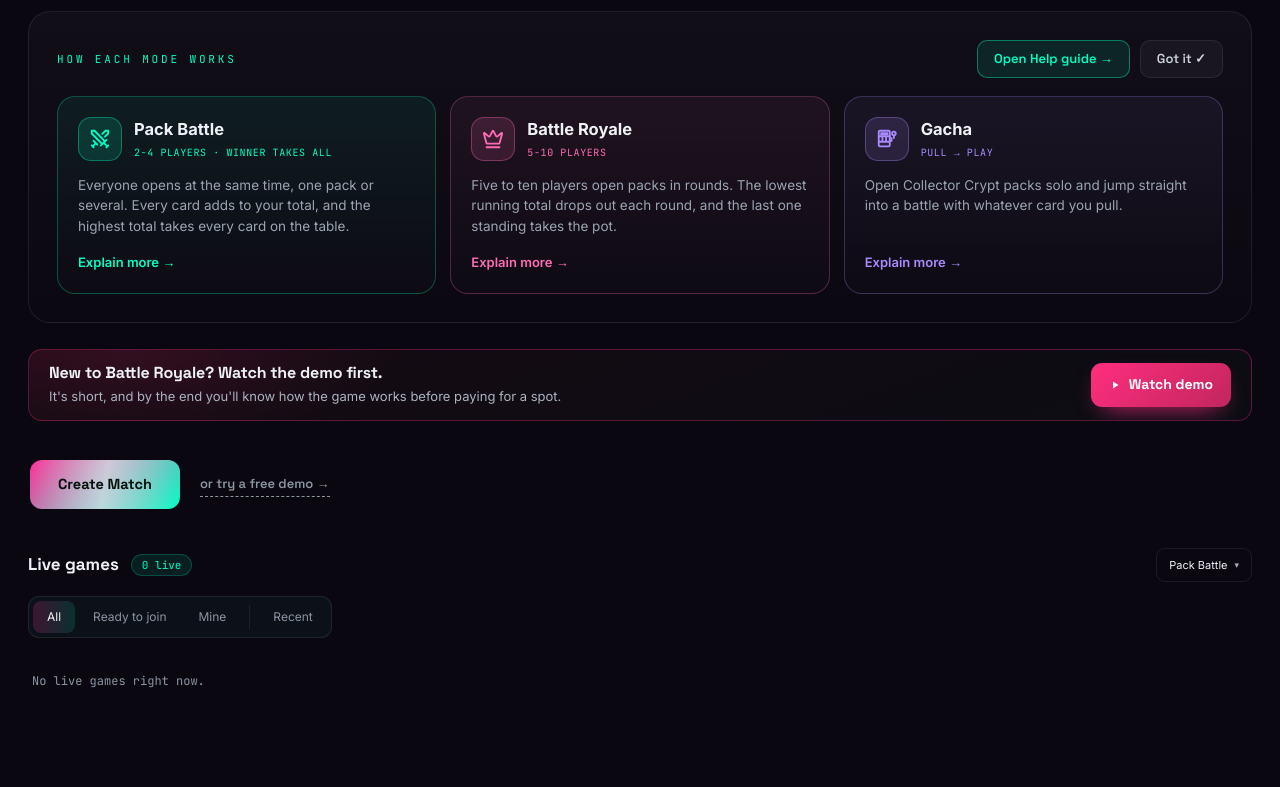
Lobby · lo que enseña la card de una partida terminada › ya no queda el "+N" que contaba los círculos
Step 1. Click the text "Recent" → (293, 617), box top-left (273, 609), bottom-right (313, 624)
(page scrolled)
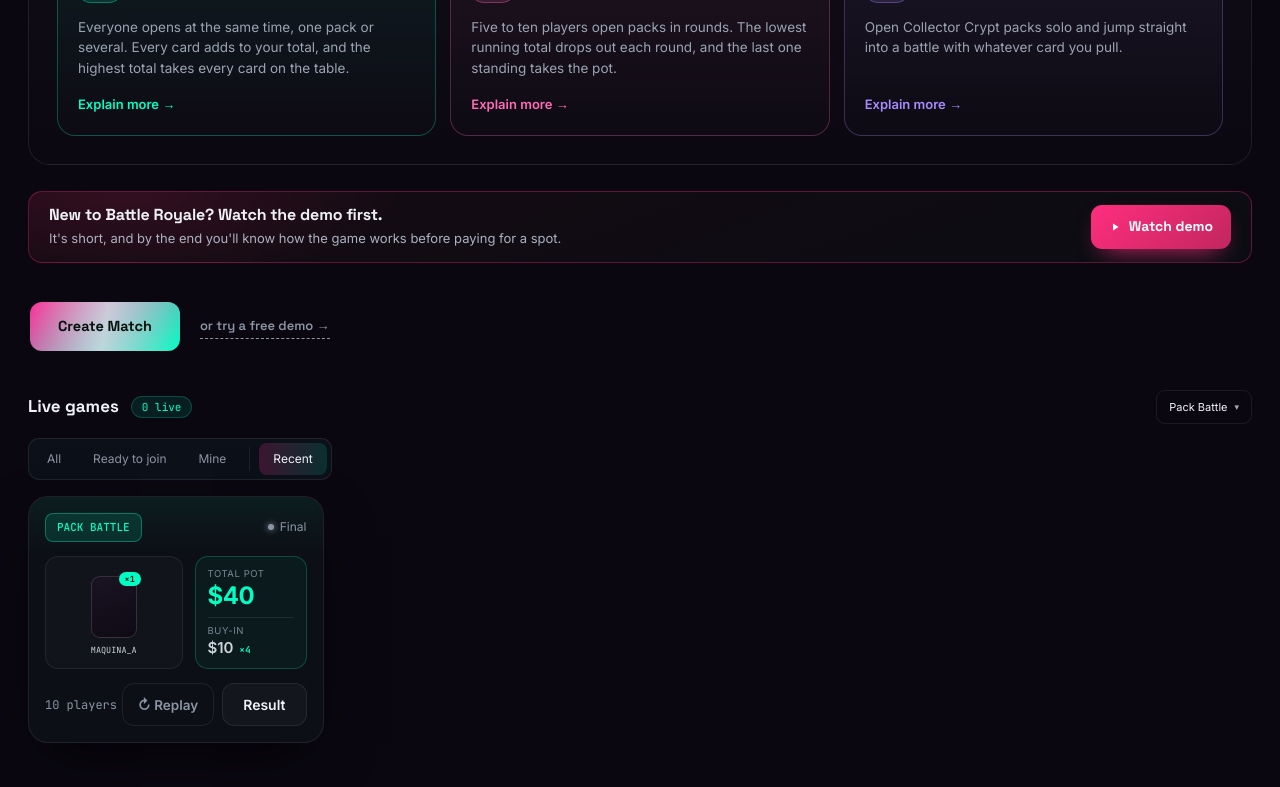
Now the text "10 players" is shown, box top-left (45, 696), bottom-right (117, 714)
